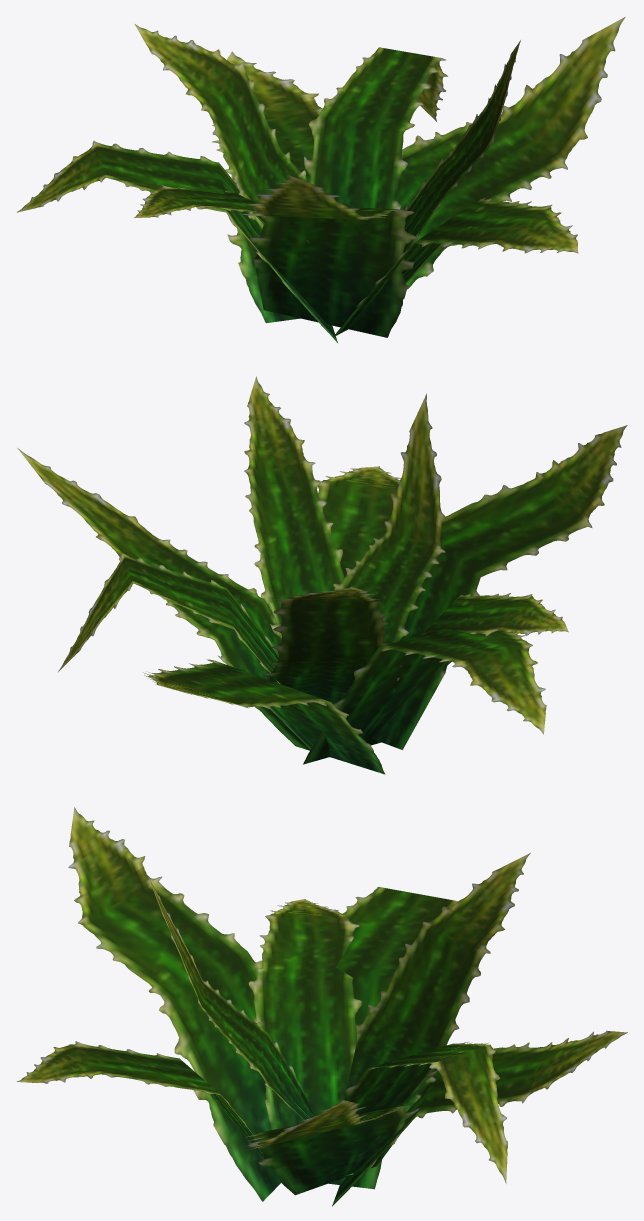
File: fxmg_plant2.FBX
The picture shows the model from 3 angles, top to bottom: view 1: azimuth 30°, elevation 25°; view 2: azimuth 150°, elevation 25°; view 3: azimuth 270°, elevation 25°; orthographic projection. The views are drawn at different scales.
Parts seen in each view (by area): view 1: KLMSM_plant2; view 2: KLMSM_plant2; view 3: KLMSM_plant2.
Boxes of the visible parts, bbox=[...] form: KLMSM_plant2: bbox=[16, 17, 625, 342]; KLMSM_plant2: bbox=[17, 376, 627, 774]; KLMSM_plant2: bbox=[16, 807, 627, 1206].
Bounding box in the file's own units: 609 × 305 × 530.
